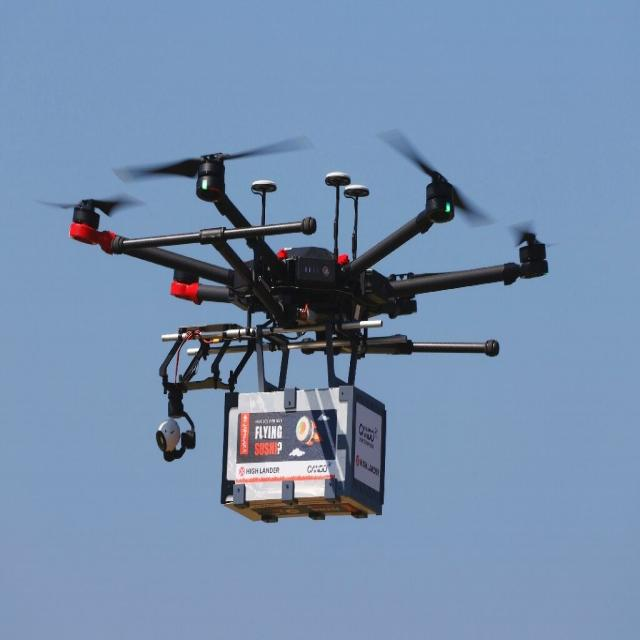drones: (32, 121, 567, 532)
